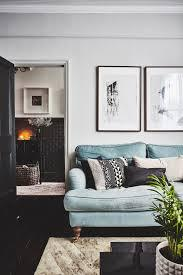door: (0, 56, 16, 205)
light: (19, 66, 38, 74)
sofa: (63, 143, 183, 242)
table: (97, 243, 174, 275)
